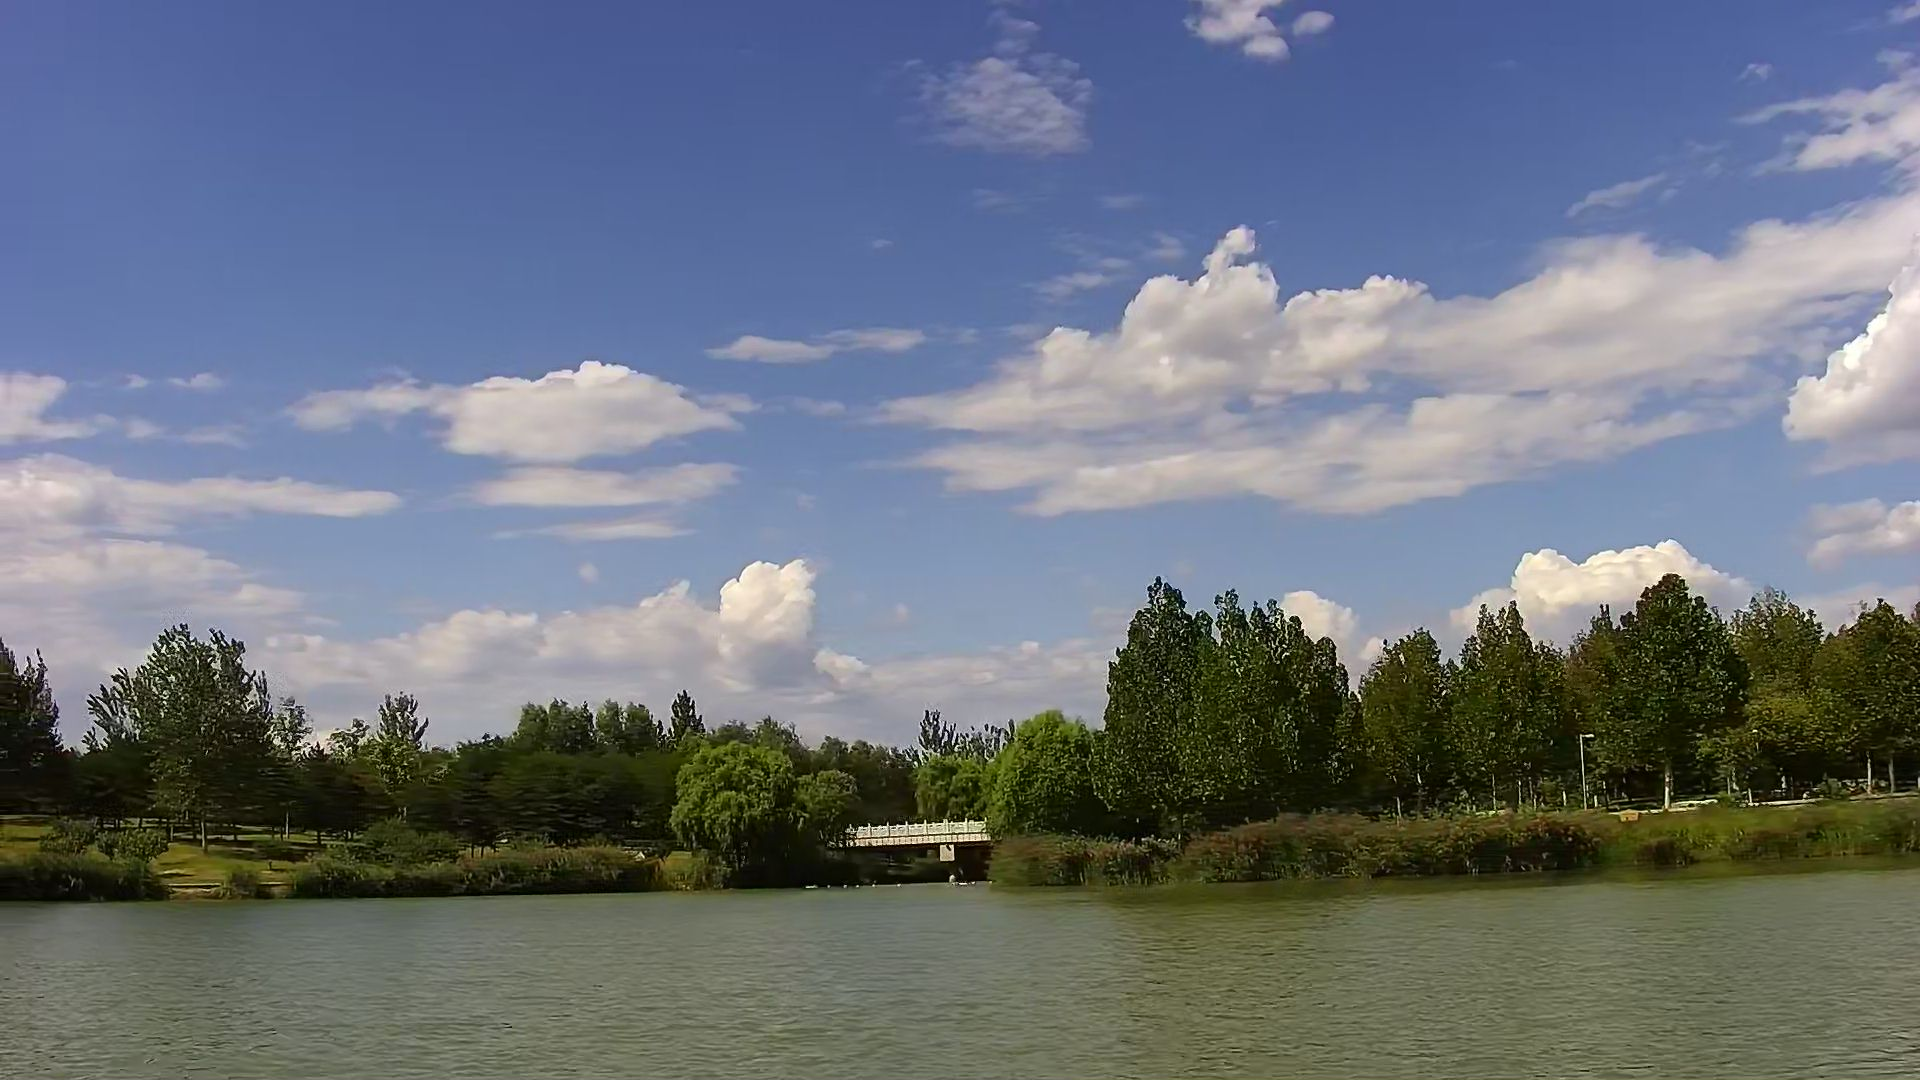bridge: (858, 818, 985, 880)
